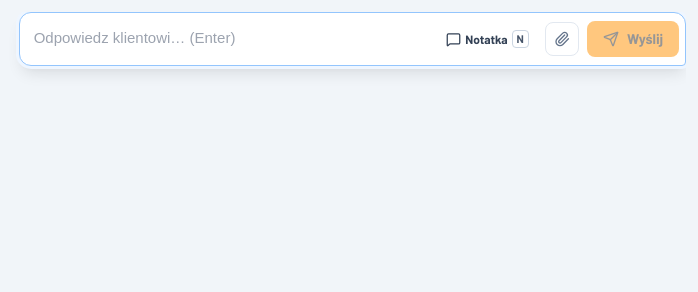
Edytor — tryb komentarza wewnętrznego › notatka nie liczy znaków i nie powtarza, że jest wewnętrzna
Click the button with aria-label "Notatka wewnętrzna".
click(488, 39)  # box [438,19,537,59]
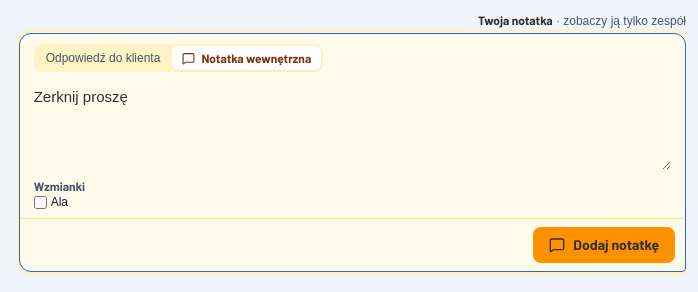
Check: the text box with placeholder "Notatka dla zespołu — klient tego nie zobaczy" is shown, box [34,82,671,170]
